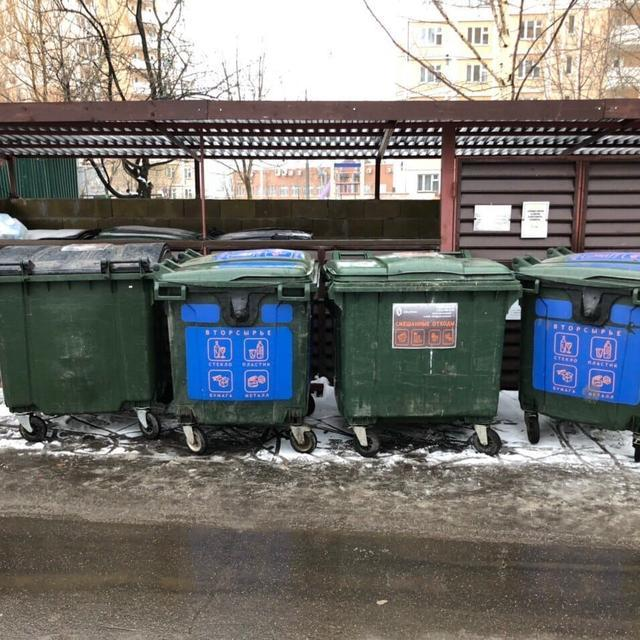Trash_Can_Closed: (326, 250, 522, 421), (154, 249, 321, 423), (0, 243, 169, 414), (516, 249, 640, 433)
